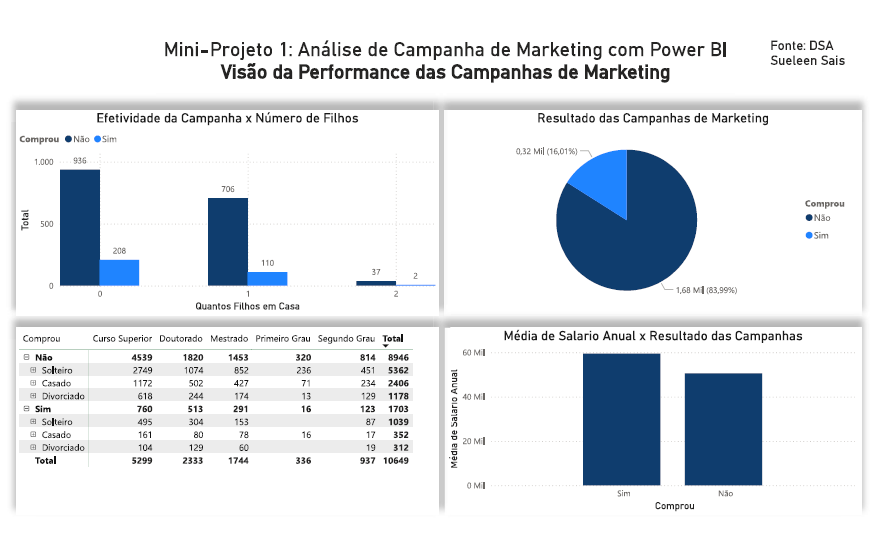

What the dashboard file says about the page in this screenshot:
{"tool":"powerbi","page":{"name":"Visão Campanhas","canvas":[1280,720],"ordinal":2},"visuals":[{"type":"textbox","box":[222.5,0,852.5,97.5],"z":0},{"type":"pieChart","title":"Resultado das Campanhas de Marketing","fields":{"Category":["DadosMarketing.Comprou"],"Y":["CountNonNull(DadosMarketing.ID)"]},"box":[648.3,112,613.9,301.7],"z":1000},{"type":"clusteredColumnChart","title":"Média de Salario Anual x Resultado das Campanhas","fields":{"Category":["DadosMarketing.Comprou"],"Y":["Avg(DadosMarketing.Salario Anual)"]},"box":[648.3,433.2,613.9,274.9],"z":2000},{"type":"pivotTable","fields":{"Rows":["DadosMarketing.Comprou","DadosMarketing.Estado Civil","DadosMarketing.Pais"],"Values":["Sum(DadosMarketing.Numero Visitas WebSite Mes)"],"Columns":["DadosMarketing.Escolaridade"]},"box":[16.4,433.2,622.9,274.9],"z":3000},{"type":"clusteredColumnChart","title":"Efetividade da Campanha x Número de Filhos","fields":{"Category":["DadosMarketing.Filhos em Casa"],"Y":["CountNonNull(DadosMarketing.Filhos em Casa)"],"Series":["DadosMarketing.Comprou"]},"box":[16.4,112,622.9,301.7],"z":4000},{"type":"textbox","box":[1122.5,0,130,57.5],"z":5000}]}

Visuals, with their boxes on the page's 1280x720 design canvas (x1, y1, x2, y2). These are canvas units, not pixel positions in the 883x537 screenshot, which may show the page scaled, cropped or inside an application window:
textbox: select_region(222, 0, 1075, 98)
"Resultado das Campanhas de Marketing" pieChart: select_region(648, 112, 1262, 414)
"Média de Salario Anual x Resultado das Campanhas" clusteredColumnChart: select_region(648, 433, 1262, 708)
pivotTable - DadosMarketing.Comprou x DadosMarketing.Estado Civil: select_region(16, 433, 639, 708)
"Efetividade da Campanha x Número de Filhos" clusteredColumnChart: select_region(16, 112, 639, 414)
textbox: select_region(1122, 0, 1252, 58)
